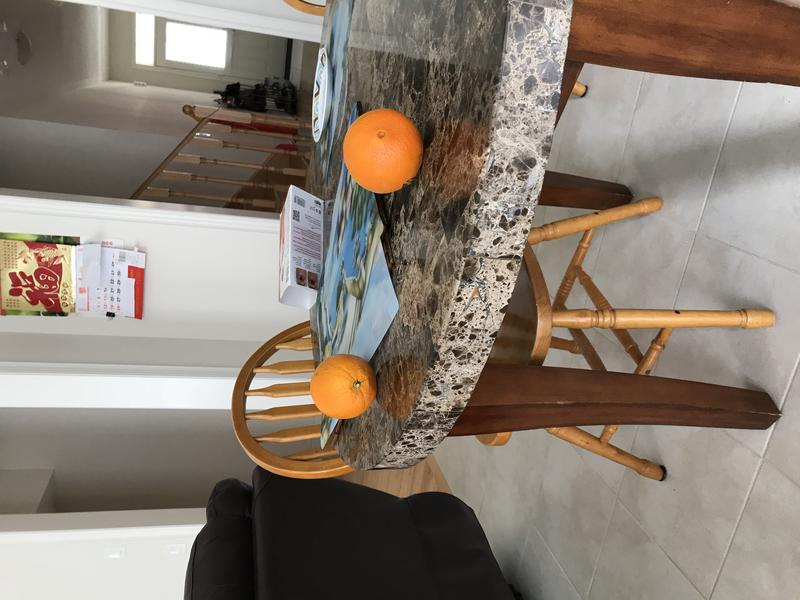orange: (336, 100, 426, 195), (304, 355, 383, 422)
